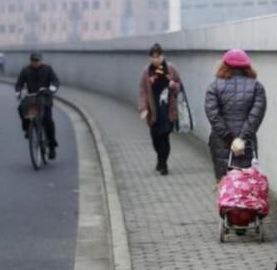person: (203, 47, 271, 243), (138, 42, 196, 176), (14, 49, 64, 169)
